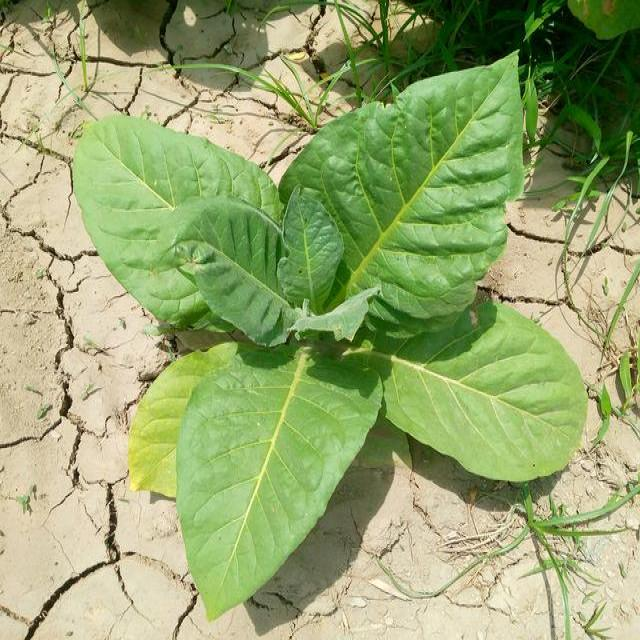crop: (72, 55, 582, 528)
